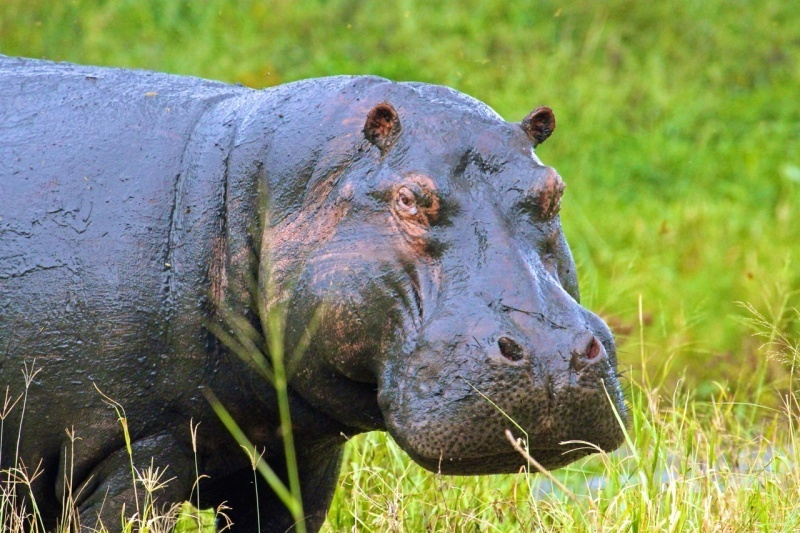hipopotamo: (0, 40, 630, 524)
